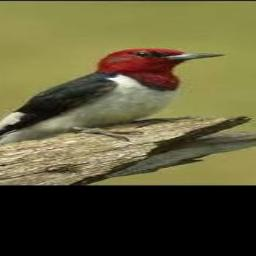Woodpecker: (0, 48, 226, 150)
